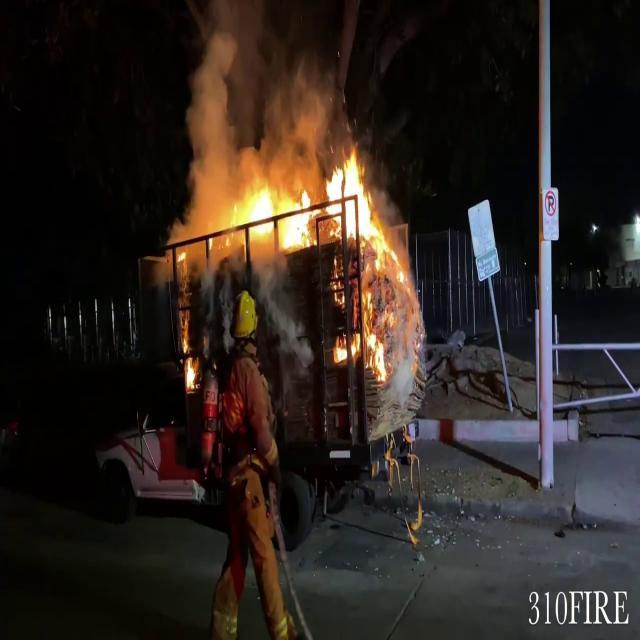Fire: (328, 136, 399, 374), (223, 175, 314, 252)
Smoke: (169, 0, 344, 199)
